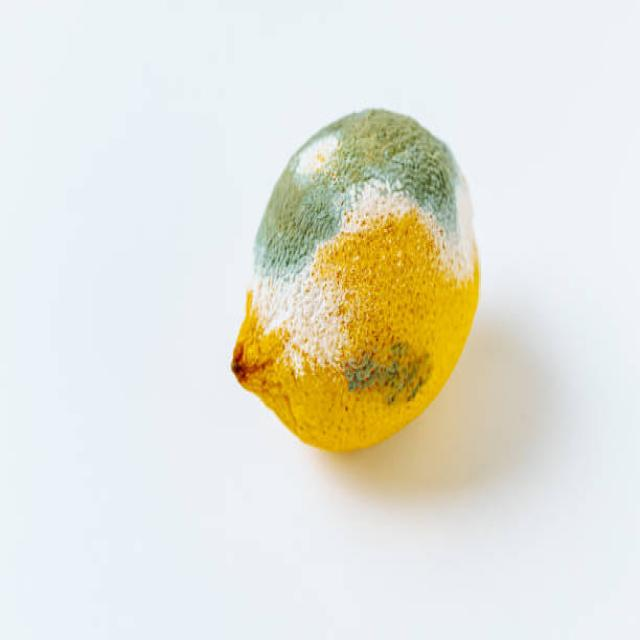Rotten: (234, 102, 481, 450)
